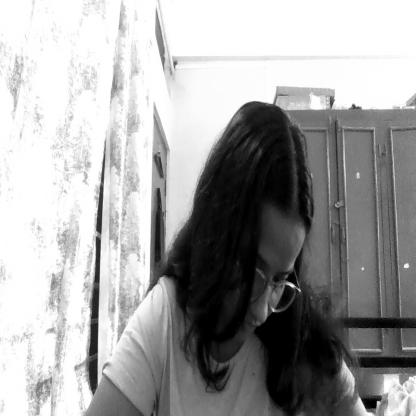Distracted: (230, 188, 314, 349)
